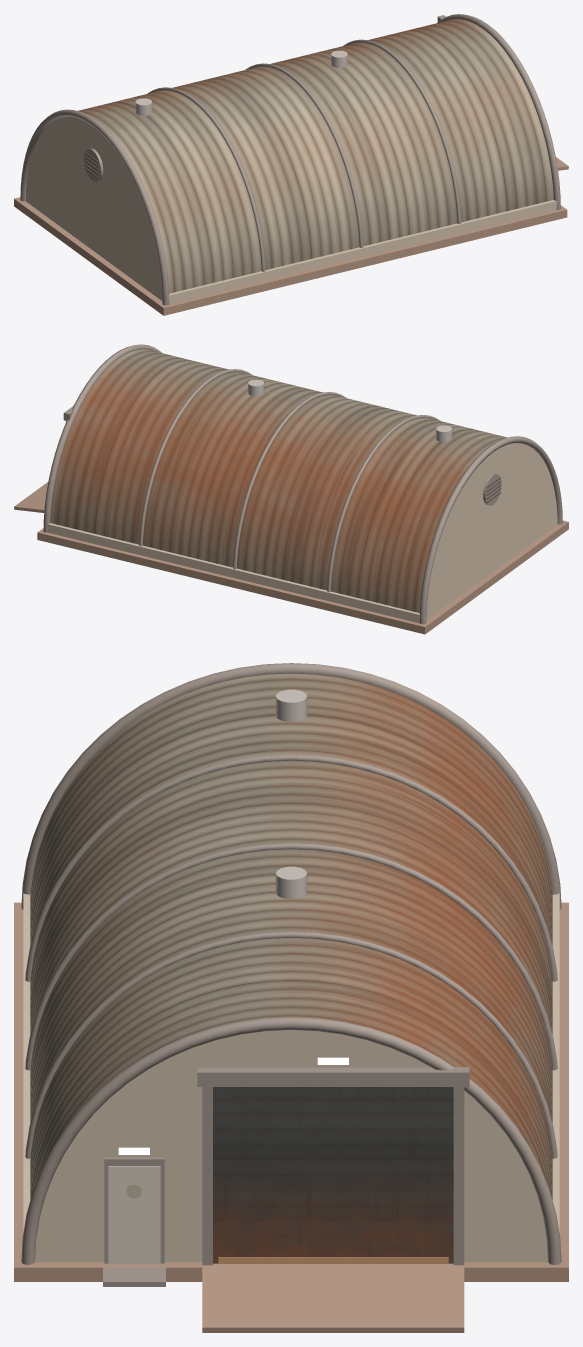
Rendered from I04_arched_hall_4seg.glb.
The picture shows the model from 3 angles, top to bottom: view 1: azimuth 30°, elevation 25°; view 2: azimuth 150°, elevation 25°; view 3: azimuth 270°, elevation 25°; orthographic projection. The views are drawn at different scales.
Parts seen in each view (by area): view 1: vault, gable_wall, segment_rib (×5), foundation, base_beam, gable_vent; view 2: vault, gable_wall, segment_rib (×5), foundation, base_beam, ramp, gable_vent; view 3: vault, large_door, gable_wall, segment_rib (×5), ramp, foundation, door_header, small_door, base_beam (×2), door_jamb (×2), roof_vent (×2), door_bottom_bar (+2 smaller).
Part boxes in pixels (x1,y1,x2,y2): vault: [78, 19, 553, 293]; gable_wall: [25, 116, 162, 300]; segment_rib (×5): [20, 14, 560, 305]; foundation: [14, 197, 567, 315]; base_beam: [168, 200, 557, 303]; gable_vent: [84, 148, 103, 181]; vault: [50, 349, 507, 612]; gable_wall: [426, 443, 557, 620]; segment_rib (×5): [43, 344, 562, 624]; foundation: [37, 520, 568, 634]; base_beam: [47, 523, 420, 623]; ramp: [14, 482, 48, 512]; gable_vent: [483, 473, 501, 505]; vault: [30, 673, 552, 1199]; large_door: [213, 1087, 453, 1263]; gable_wall: [35, 1030, 547, 1262]; segment_rib (×5): [21, 663, 561, 1264]; ramp: [202, 1263, 464, 1332]; foundation: [14, 902, 568, 1281]; door_header: [197, 1067, 469, 1086]; small_door: [108, 1166, 160, 1264]; base_beam (×2): [23, 893, 559, 1232]; door_jamb (×2): [202, 1087, 464, 1265]; roof_vent (×2): [275, 689, 307, 898]; door_bottom_bar: [218, 1257, 448, 1263].
Size of the model in its own units: 18.65 by 5.78 by 10.6.
Materials: 12 (2 with a texture image).
